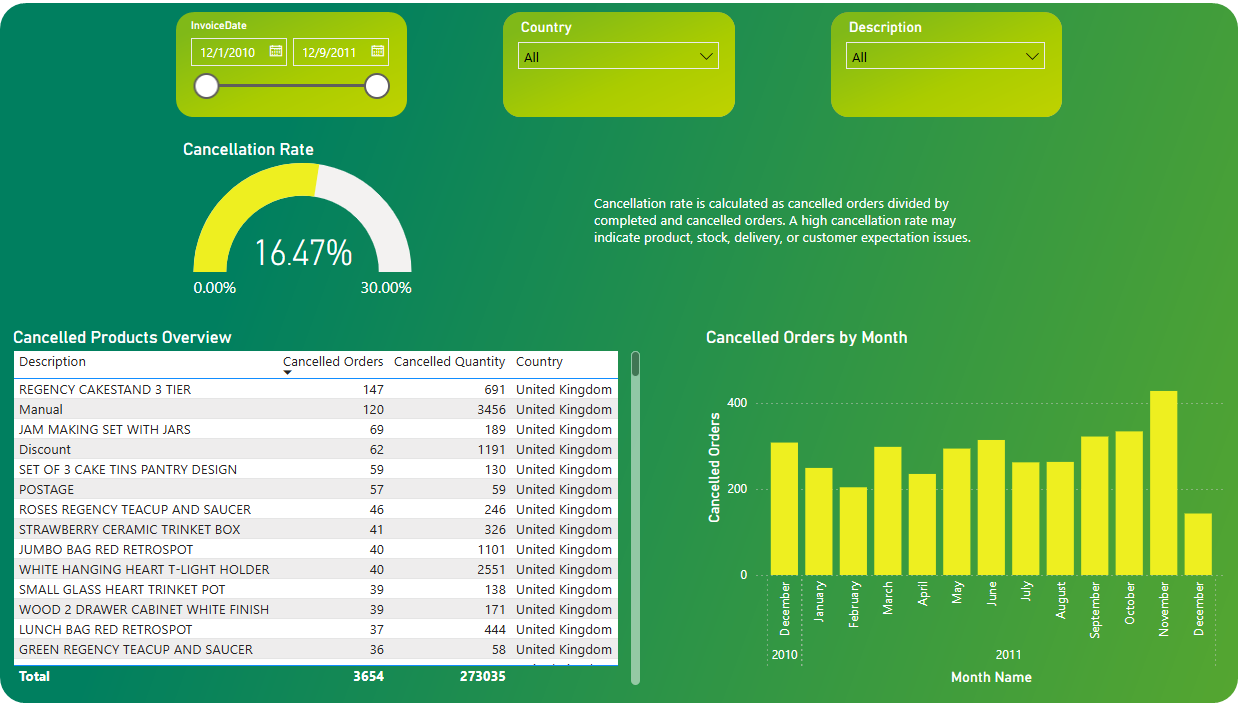

What the dashboard file says about the page in this screenshot:
{"tool":"powerbi","page":{"name":"Cancellation Analysis","canvas":[1280,720],"ordinal":2},"visuals":[{"type":"gauge","fields":{"Y":["vw_cancelled_orders.Cancellation Rate"]},"box":[198.9,146.4,248.6,168.5],"z":0},{"type":"tableEx","title":"Cancelled Products Overview","fields":{"Values":["vw_cancelled_orders.Description","vw_cancelled_orders.Cancelled Orders","vw_cancelled_orders.Cancelled Quantity","vw_cancelled_orders.Country"]},"box":[28.5,334.3,637.2,362.8],"z":1000},{"type":"columnChart","title":"Cancelled Orders by Month","fields":{"Y":["vw_cancelled_orders.Cancelled Orders"],"Category":["vw_cancelled_orders.Year","vw_cancelled_orders.Month_Name"]},"box":[722,334.3,530.4,362.8],"z":2000},{"type":"textbox","box":[609.6,196.1,402.4,69.1],"z":3000},{"type":"slicer","fields":{"Values":["vw_completed_sales.InvoiceDate"]},"box":[198.9,21.2,220.1,98.5],"z":4000},{"type":"slicer","fields":{"Values":["vw_completed_sales.Country"]},"box":[529.5,21.2,220.1,98.5],"z":5000},{"type":"slicer","fields":{"Values":["vw_completed_sales.Description"]},"box":[856.6,21.3,219.9,98.4],"z":6000}]}

Visuals, with their boxes in screenshot pixels (x1, y1, x2, y2), scaled from the page's 1280x720 canvas onto the 1238x705 screenshot:
gauge - vw_cancelled_orders.Cancellation Rate: (x1=192, y1=143, x2=433, y2=308)
"Cancelled Products Overview" tableEx: (x1=28, y1=327, x2=644, y2=683)
"Cancelled Orders by Month" columnChart: (x1=698, y1=327, x2=1211, y2=683)
textbox: (x1=590, y1=192, x2=979, y2=260)
slicer - vw_completed_sales.InvoiceDate: (x1=192, y1=21, x2=405, y2=117)
slicer - vw_completed_sales.Country: (x1=512, y1=21, x2=725, y2=117)
slicer - vw_completed_sales.Description: (x1=828, y1=21, x2=1041, y2=117)
